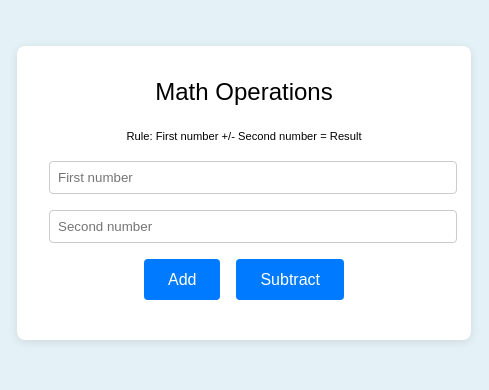
Scenario: adds two numbers correctly
In the number field with placeholder "First number": (253,178) [49, 161, 457, 194], type "10"
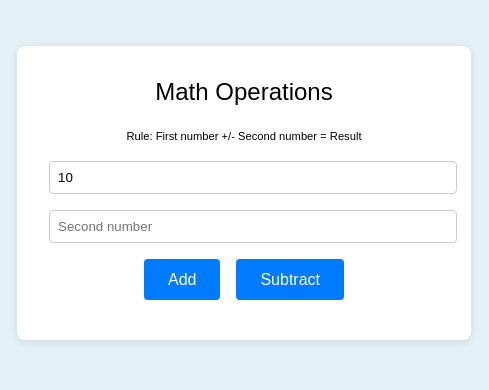
In the number field with placeholder "Second number": (253,227) [49, 210, 457, 243], type "2"
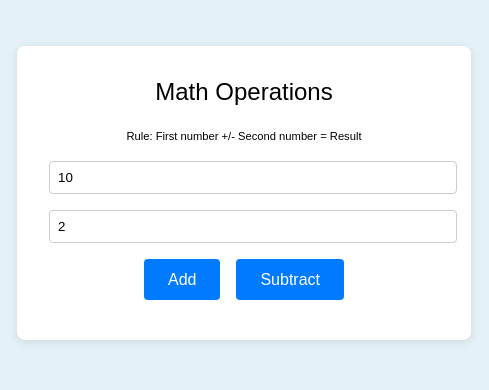
Click the button "Add": (182,280) [144, 259, 220, 300]
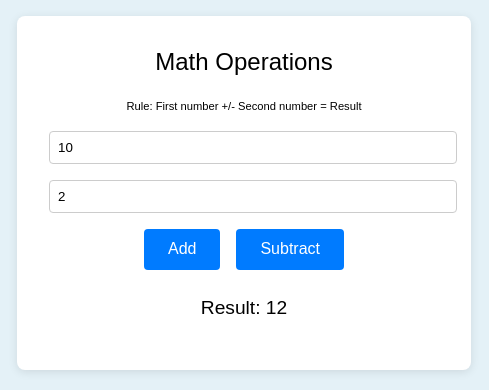
Now the text "Result: 12" is shown, box [201, 297, 287, 318]
